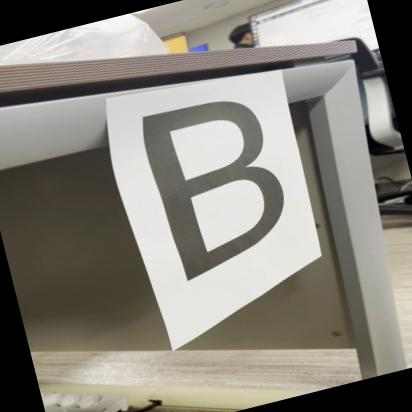seat: (132, 84, 310, 292)
